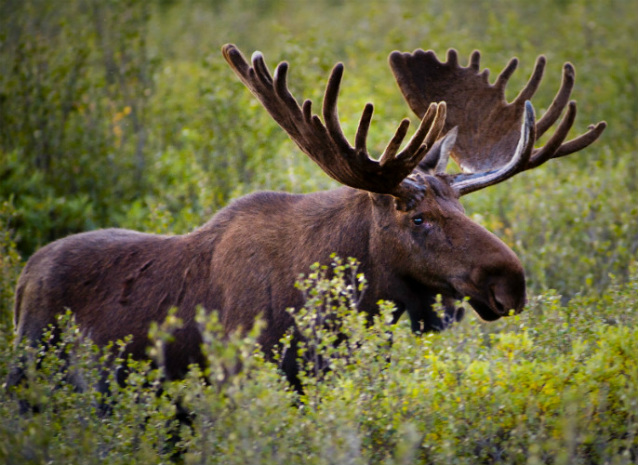moose: (8, 27, 611, 398)
